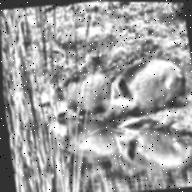boar: (95, 46, 192, 130), (37, 67, 130, 129)
